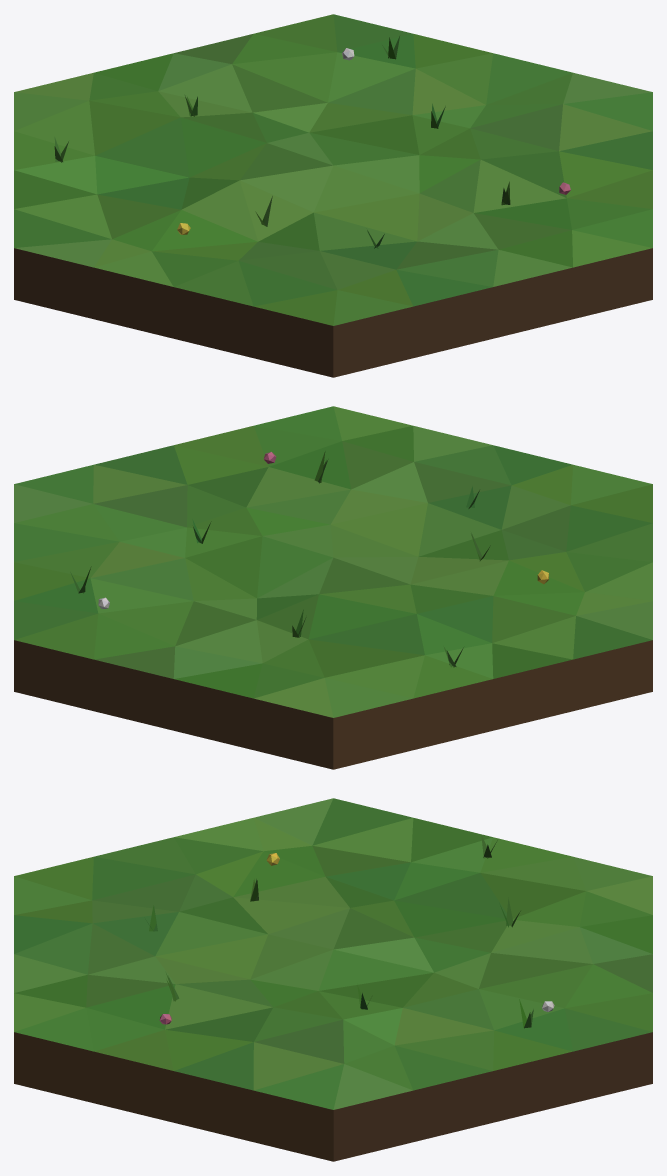
Rendered from Grassland3.glb.
3 renders of one model, top to bottom at view 1: azimuth 30°, elevation 25°; view 2: azimuth 150°, elevation 25°; view 3: azimuth 270°, elevation 25°, orthographic.
Visible parts, largest first — view 1: Grassland3; view 2: Grassland3; view 3: Grassland3.
Boxes of the visible parts, x1,y1,x2,y2 form: Grassland3: (14, 14, 652, 377); Grassland3: (14, 406, 652, 769); Grassland3: (14, 798, 652, 1161).
Size of the model in its own units: 1.94 by 0.2338 by 1.68.
